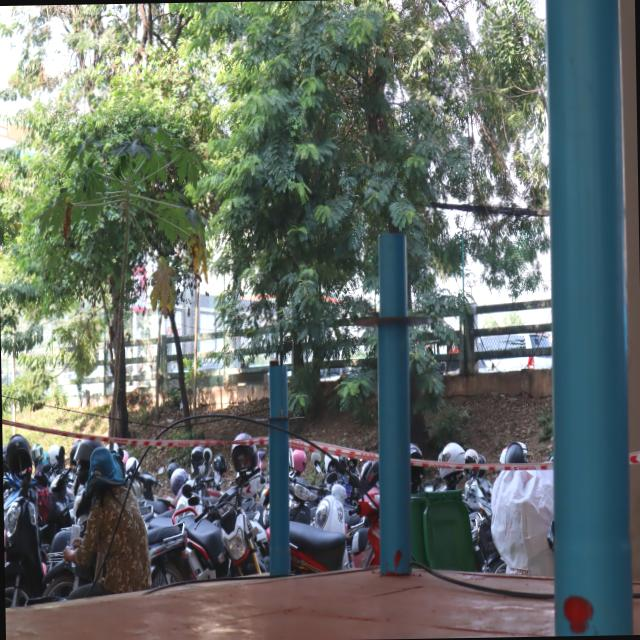pole: (342, 228, 430, 381), (250, 359, 308, 473)
